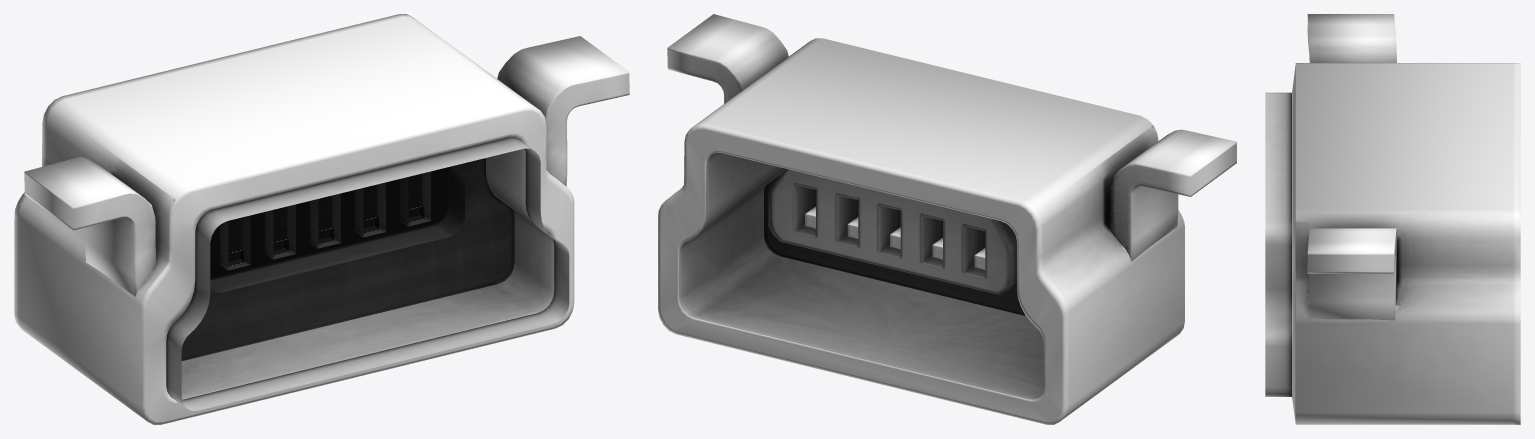
File: V1_21_USBcon.fbx
The picture shows the model from 3 angles, left to right: view 1: azimuth 30°, elevation 25°; view 2: azimuth 150°, elevation 25°; view 3: azimuth 270°, elevation 25°; orthographic projection. The views are drawn at different scales.
Parts seen in each view (by area): view 1: USB_b.RET_EXT, USB_b.RET_INT1, Usb_b.RET_Pins; view 2: USB_b.RET_EXT, USB_b.RET_INT1, Usb_b.RET_Pins; view 3: USB_b.RET_EXT, USB_b.RET_INT1.
Boxes of the visible parts, x1,y1,x2,y2 form: USB_b.RET_EXT: (14,14,629,424); USB_b.RET_INT1: (166,137,569,410); Usb_b.RET_Pins: (273,202,424,255); USB_b.RET_EXT: (658,14,1236,424); USB_b.RET_INT1: (764,168,1025,315); Usb_b.RET_Pins: (805,206,942,259); USB_b.RET_EXT: (1292,14,1520,424); USB_b.RET_INT1: (1265,92,1291,396).
Bounding box in the file's own units: 988 × 394 × 446.
